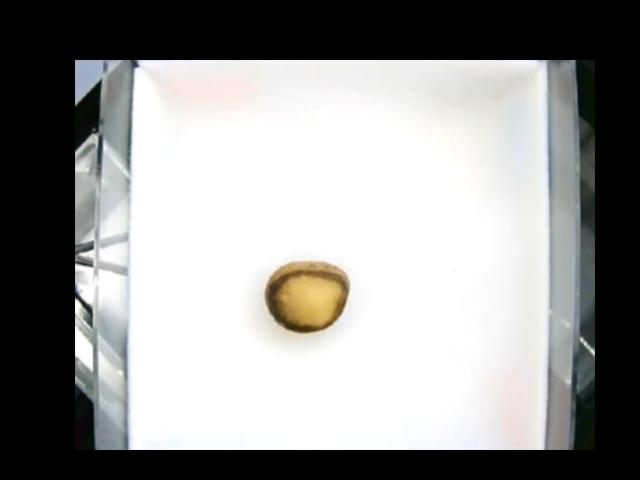Potato: (265, 258, 351, 335)
